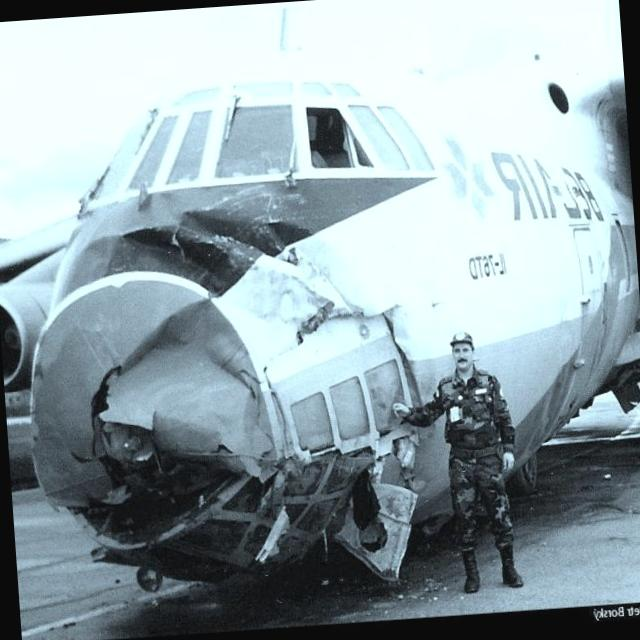dent: (198, 210, 308, 262)
